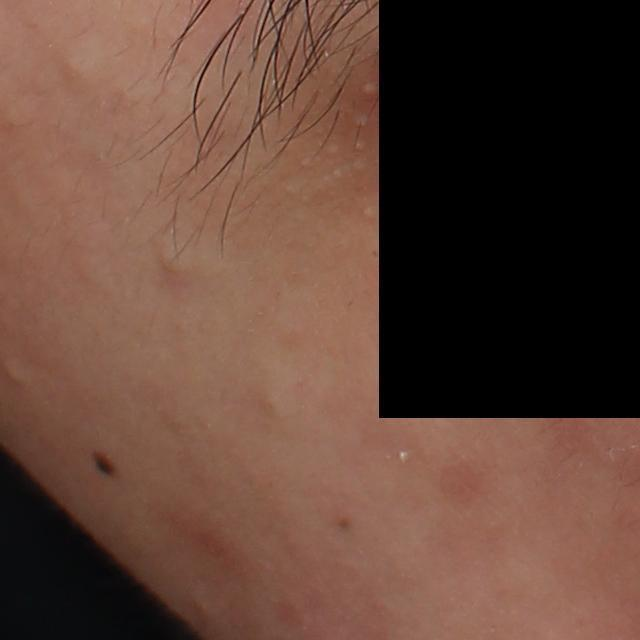comedo: (49, 46, 106, 97), (156, 231, 197, 279), (253, 391, 289, 420)
nevus: (87, 448, 120, 479)
